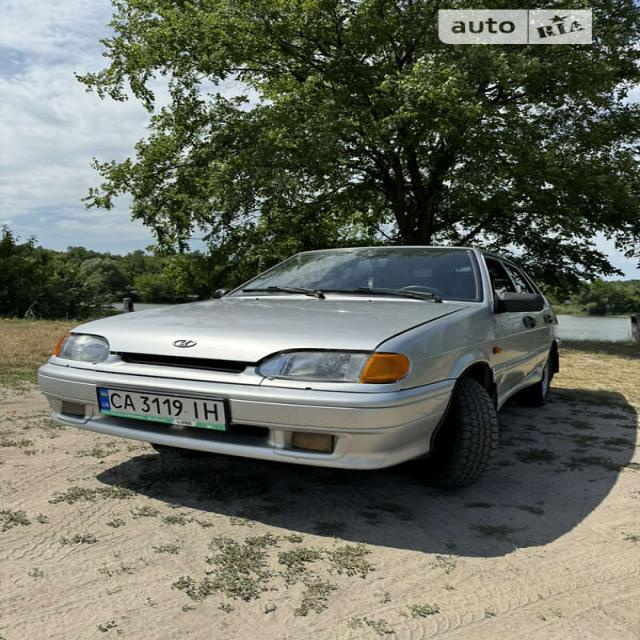plate: (96, 381, 232, 439)
